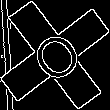O_SE: (22, 21, 88, 89)
